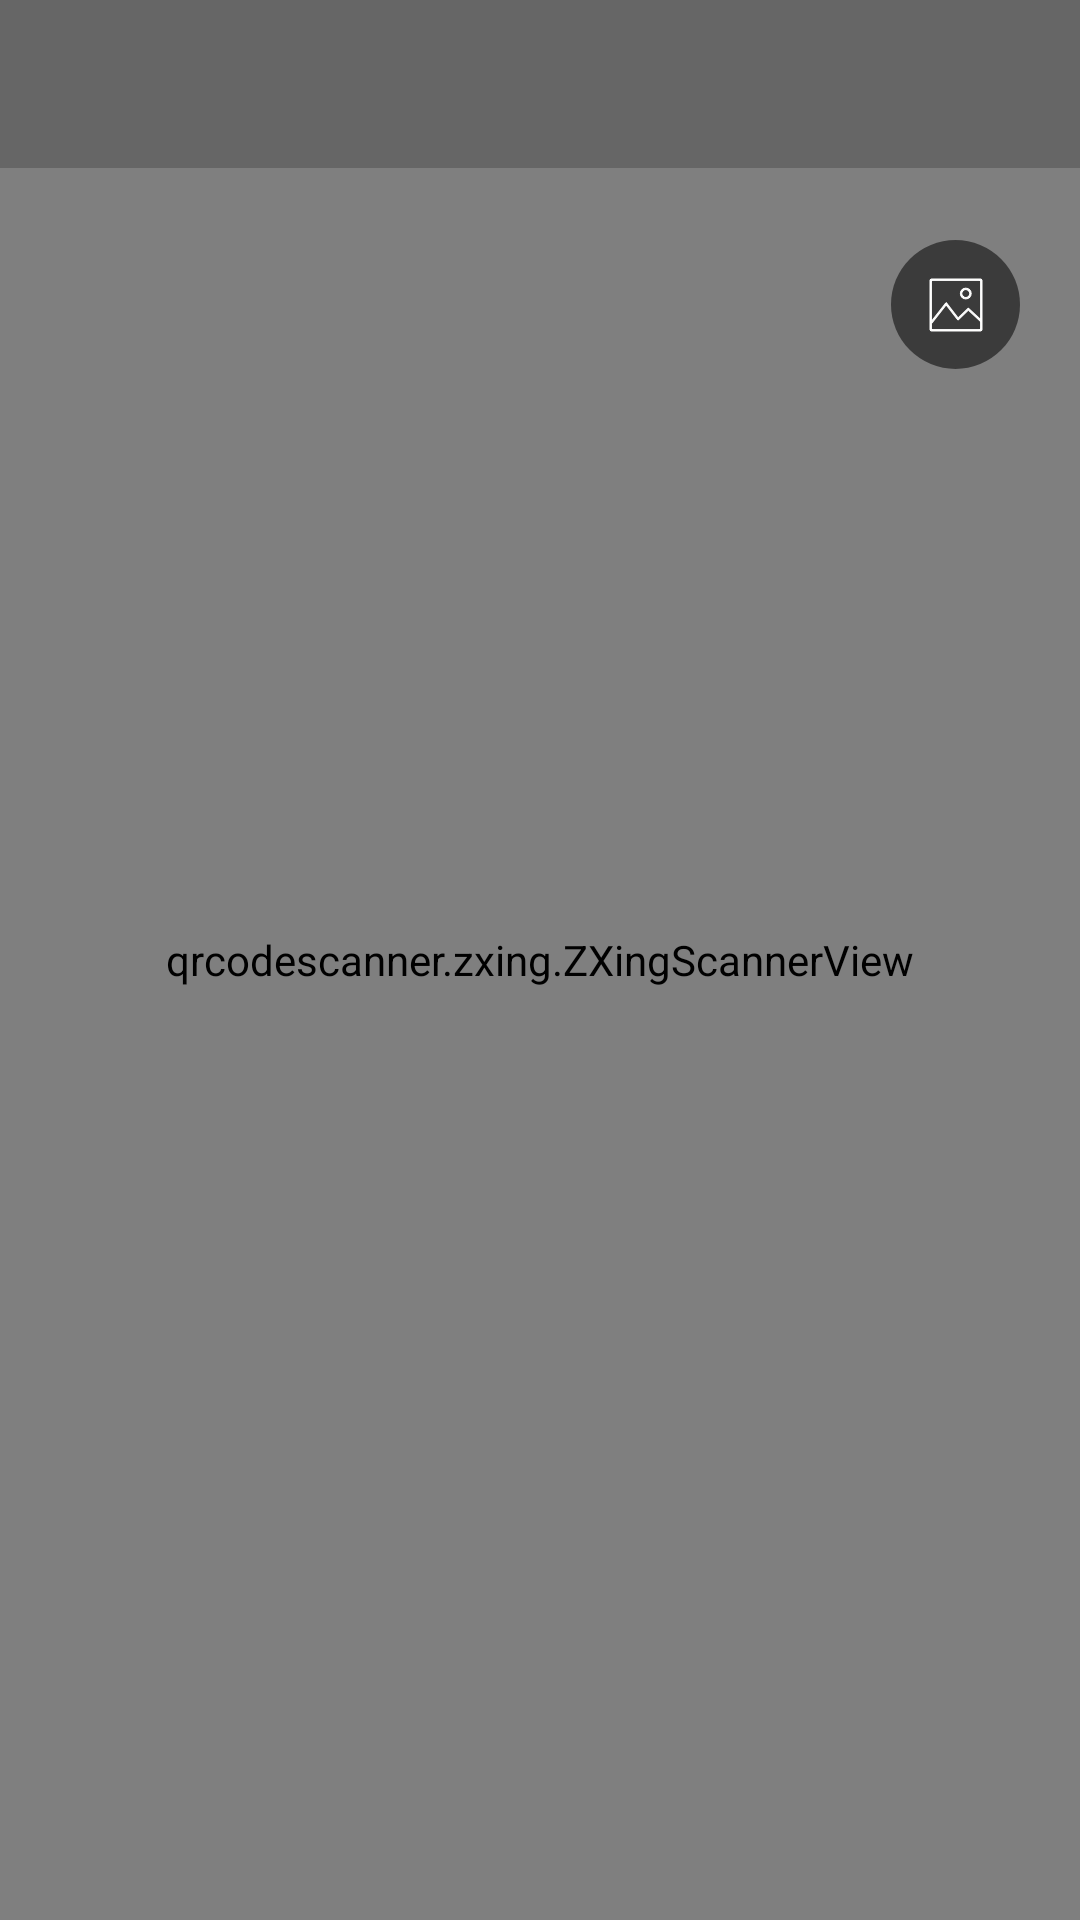

Screen size 1080*1920. Icon name, then its center in pixels as (x,y):
qrcode pick: (955,304)
